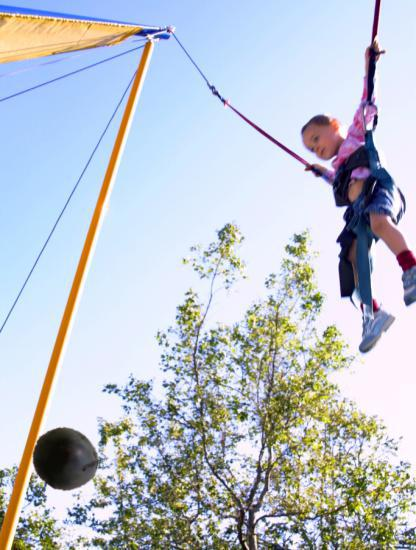Plum: (31, 425, 100, 494)
